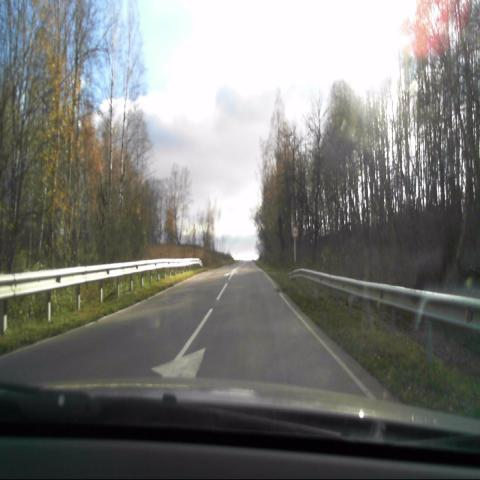3_20: (291, 226, 299, 237)
